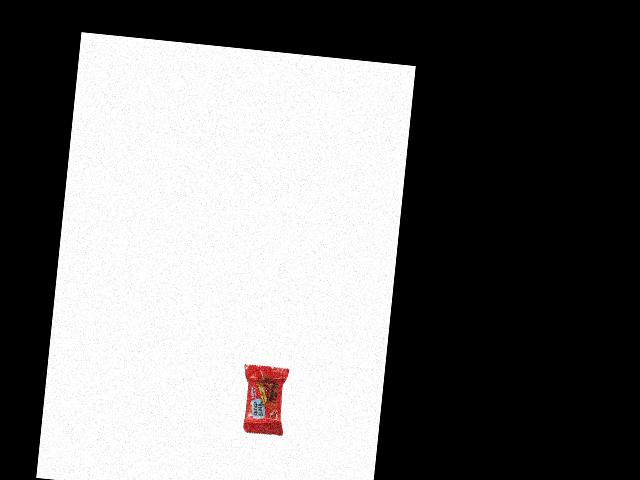chocolate: (233, 362, 288, 442)
